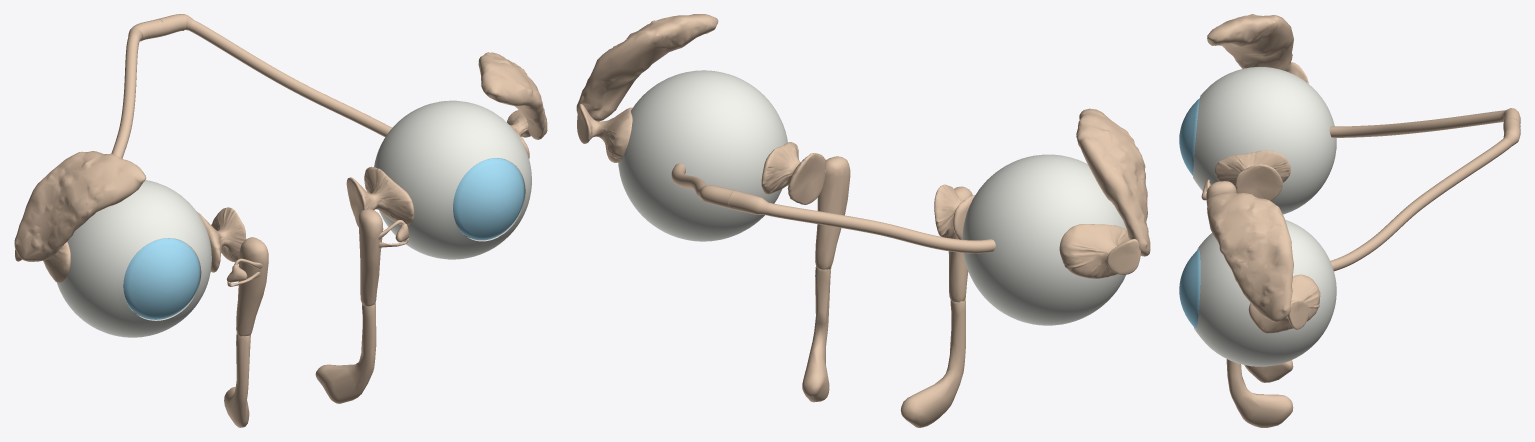
Rendered from overview-eyes.glb.
The picture shows the model from 3 angles, left to right: view 1: azimuth 30°, elevation 25°; view 2: azimuth 150°, elevation 25°; view 3: azimuth 270°, elevation 25°; orthographic projection. The views are drawn at different scales.
Visible parts, largest first — view 1: Sclera.l, Sclera.r, Lacrimal gland.r, Cornea.r, Cornea.l, Optic nerve (II).l, Lacrimal gland.l, Suspensory ligament of eyeball.l, Nasolacrimal duct.l, Suspensory ligament of eyeball.r, Lacrimal sac.r, Optic nerve (II).r (+2 smaller); view 2: Sclera.l, Sclera.r, Lacrimal gland.l, Lacrimal gland.r, Suspensory ligament of eyeball.r, Suspensory ligament of eyeball.l, Optic nerve (II).r, Nasolacrimal duct.r, Lacrimal sac.l, Nasolacrimal duct.l, Optic nerve (II).l, Lacrimal sac.r; view 3: Sclera.r, Sclera.l, Lacrimal gland.l, Lacrimal gland.r, Optic nerve (II).l, Suspensory ligament of eyeball.r, Optic nerve (II).r, Nasolacrimal duct.l, Suspensory ligament of eyeball.l, Cornea.l, Cornea.r, Nasolacrimal duct.r (+1 smaller).
Part boxes in pixels (box(x1,y1,x2,y2)): Sclera.l: box(374, 100, 531, 259); Sclera.r: box(57, 180, 211, 337); Lacrimal gland.r: box(14, 151, 146, 261); Cornea.r: box(123, 238, 200, 319); Cornea.l: box(453, 158, 524, 240); Optic nerve (II).l: box(158, 14, 391, 136); Lacrimal gland.l: box(478, 52, 547, 139); Suspensory ligament of eyeball.l: box(346, 110, 530, 227); Nasolacrimal duct.l: box(315, 303, 376, 403); Suspensory ligament of eyeball.r: box(15, 207, 246, 282); Lacrimal sac.r: box(236, 237, 268, 336); Optic nerve (II).r: box(111, 19, 164, 158); Sclera.l: box(618, 70, 787, 241); Sclera.r: box(962, 154, 1127, 325); Lacrimal gland.l: box(576, 14, 718, 121); Lacrimal gland.r: box(1076, 108, 1150, 256); Suspensory ligament of eyeball.r: box(934, 184, 1140, 278); Suspensory ligament of eyeball.l: box(577, 104, 825, 204); Optic nerve (II).r: box(729, 190, 995, 253); Nasolacrimal duct.r: box(900, 299, 965, 427); Lacrimal sac.l: box(815, 156, 850, 269); Nasolacrimal duct.l: box(802, 266, 831, 402); Optic nerve (II).l: box(671, 163, 735, 208); Lacrimal sac.r: box(948, 186, 972, 302); Sclera.r: box(1193, 67, 1336, 214); Sclera.l: box(1194, 220, 1336, 366); Lacrimal gland.l: box(1207, 192, 1293, 322); Lacrimal gland.r: box(1207, 14, 1293, 71); Optic nerve (II).l: box(1330, 118, 1520, 271); Suspensory ligament of eyeball.r: box(1214, 62, 1308, 200); Optic nerve (II).r: box(1329, 108, 1520, 137); Nasolacrimal duct.l: box(1226, 359, 1293, 427); Suspensory ligament of eyeball.l: box(1248, 274, 1320, 333); Cornea.l: box(1179, 249, 1200, 328); Cornea.r: box(1179, 98, 1199, 175); Nasolacrimal duct.r: box(1244, 360, 1293, 382).
Size of the model in its own units: 0.101 by 0.0571 by 0.0593.
